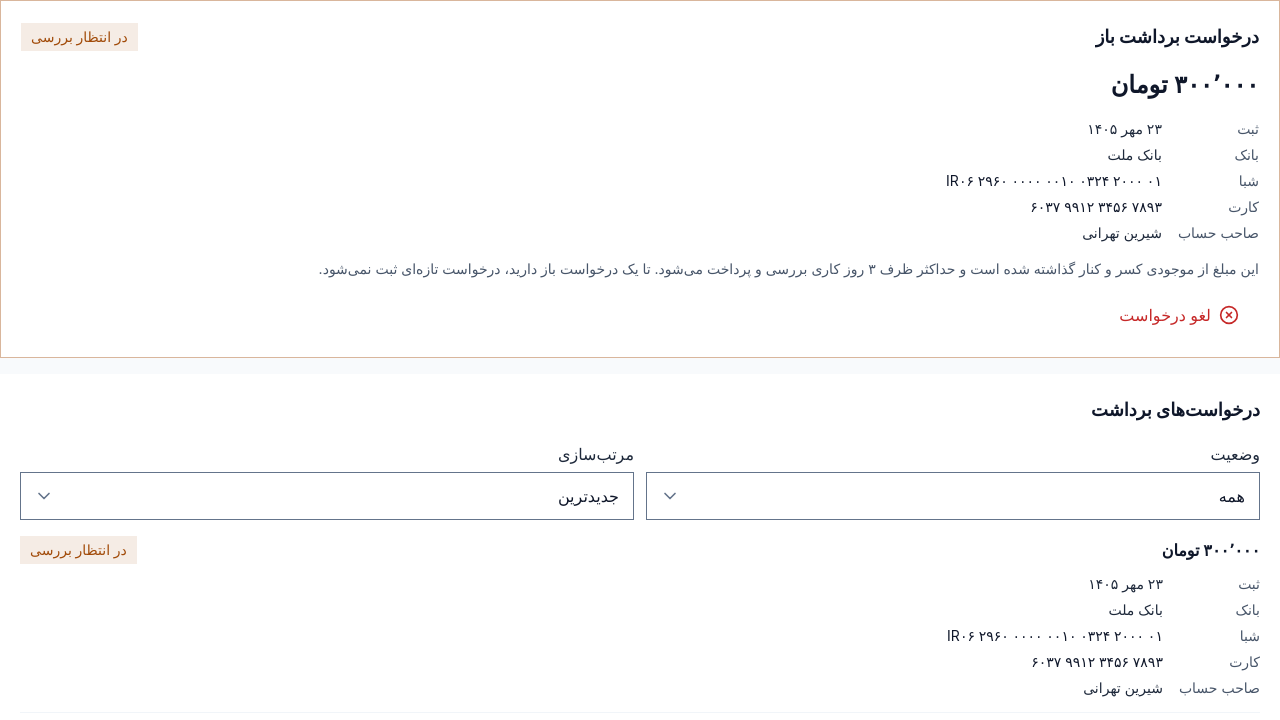
Test: the open request › 409 not cancellable any more (reviewed meanwhile): said, the list read again
Click the button "لغو درخواست": {"x": 1179, "y": 315} [1099,293,1259,337]
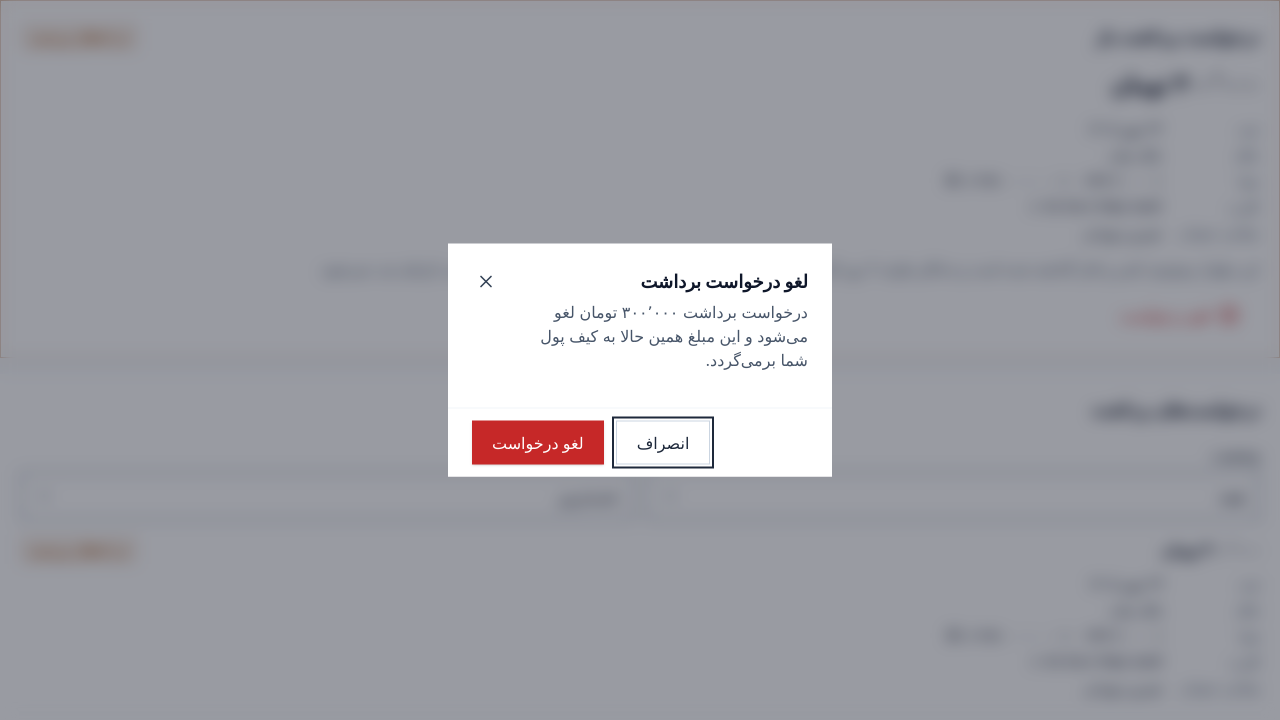
Click the button "لغو درخواست": {"x": 538, "y": 442} [472,420,604,464]
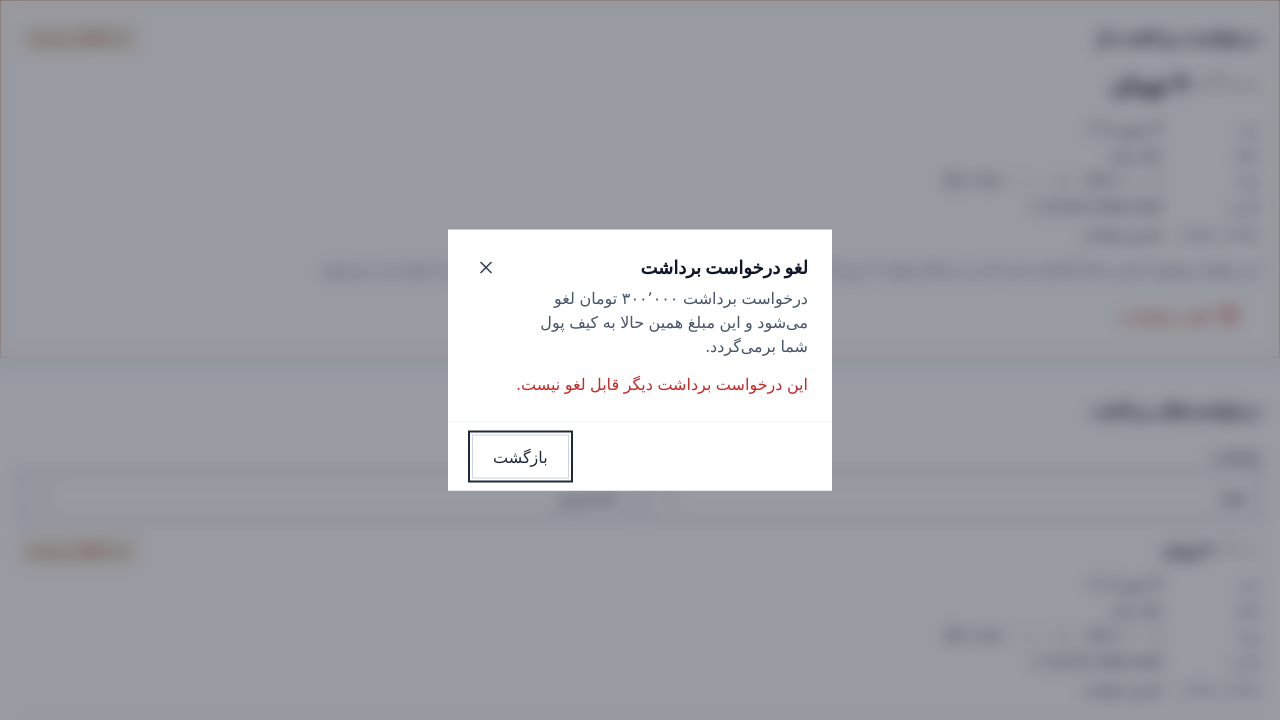
Check: the message shows "دیگر قابل لغو نیست", box [516,374,808,394]
